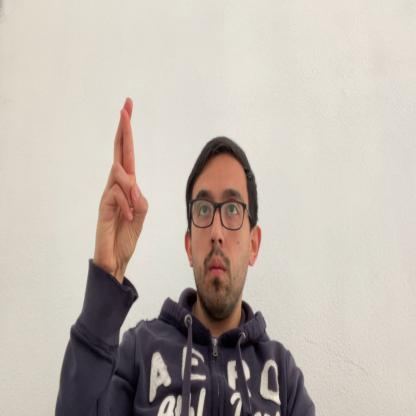R: (94, 96, 149, 264)
